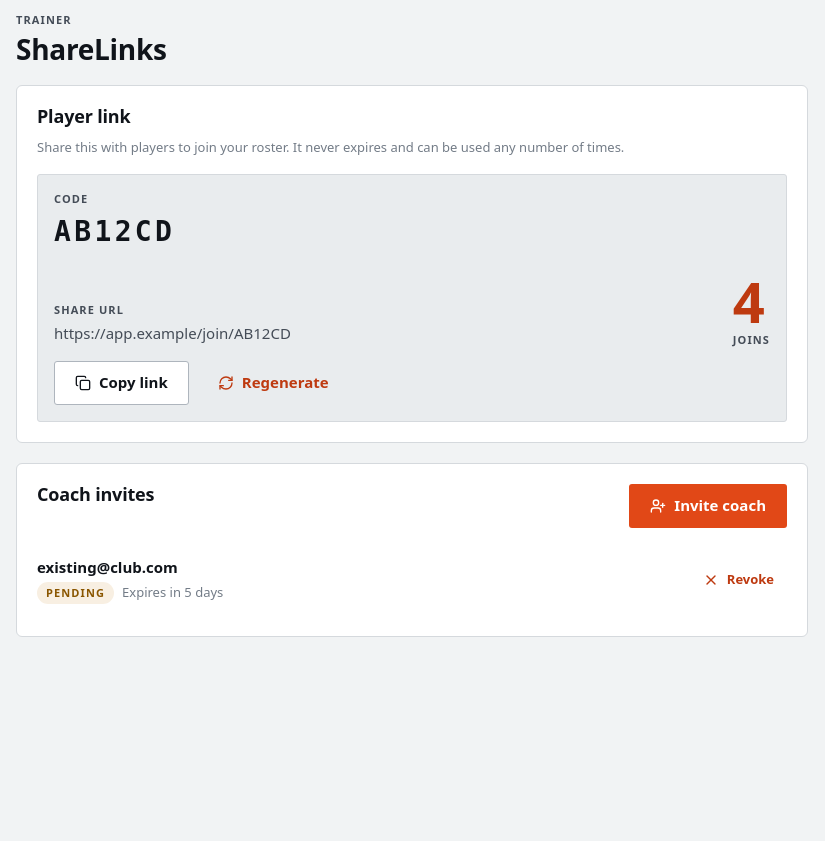
ShareLinksManager (FR-033/028) › revokes a pending invite and removes it from the list
Check: the text "existing@club.com" is shown, box [37,557,178,577]
Click the button with aria-label "revoke invite to existing@club.com" at (738,580), box [690,562,787,598]
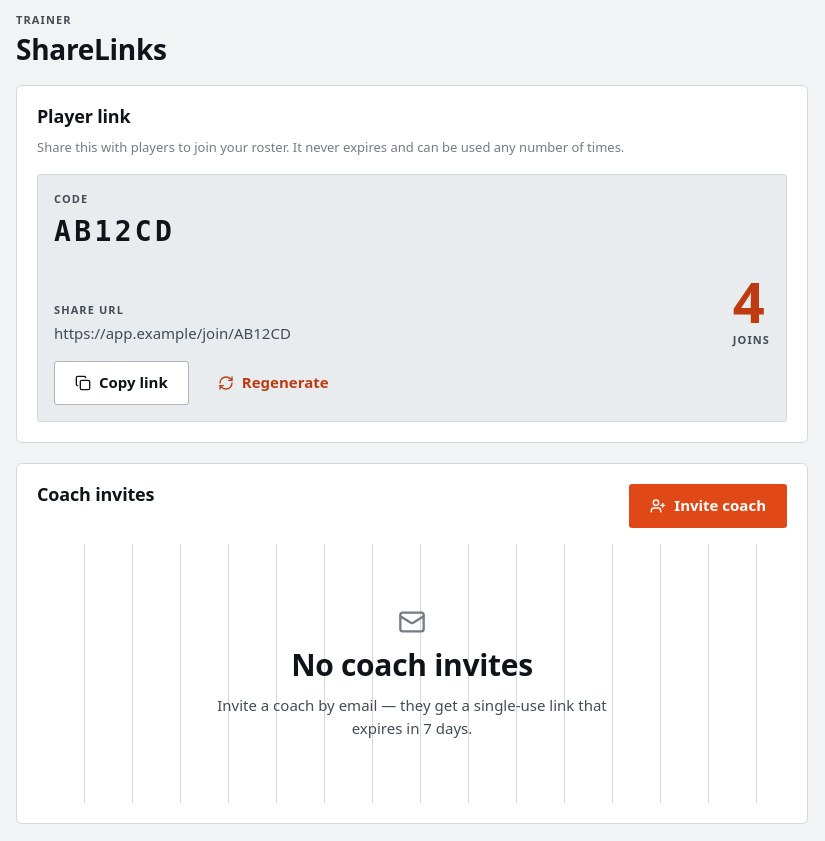
Check: the text "existing@club.com" is gone
